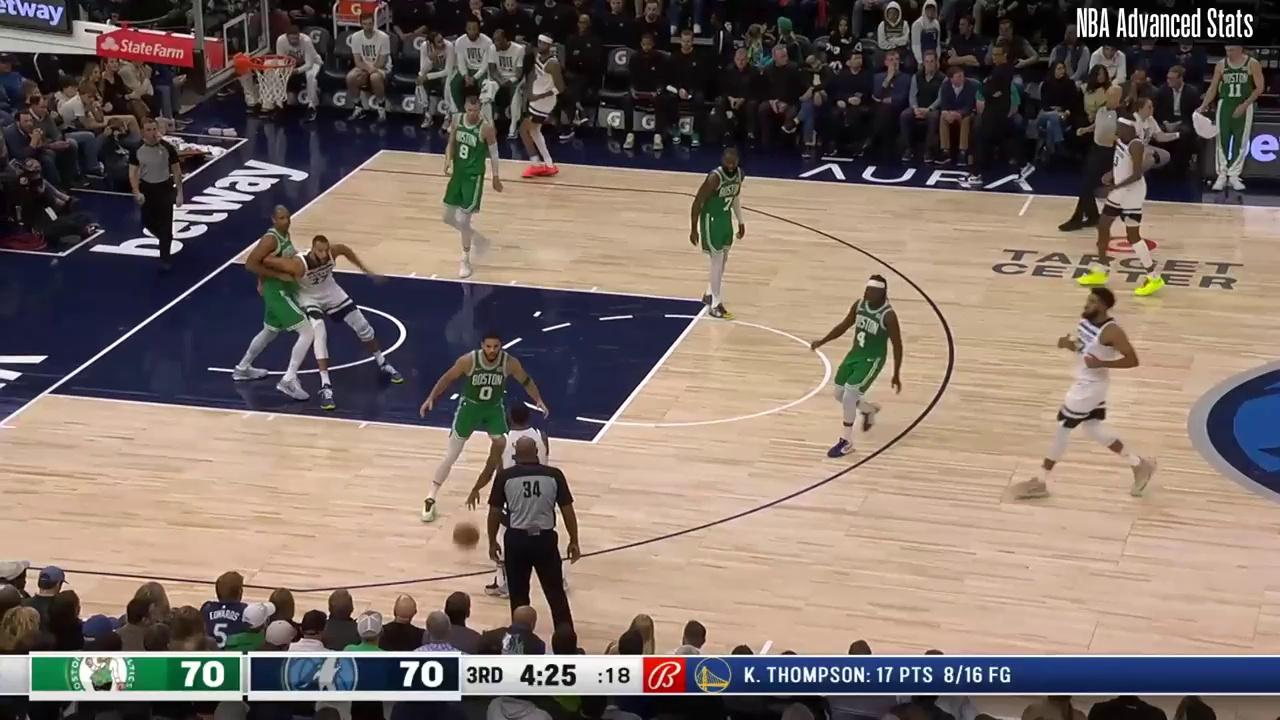3_dx: (353, 164, 364, 173)
b_dx: (378, 147, 386, 155)
free_asx: (587, 436, 601, 448)
free_bdx: (224, 256, 238, 268)
free_bsx: (38, 388, 53, 400)
mid_dx: (1015, 211, 1026, 221)
mid_sx: (764, 634, 777, 647)
referee: (483, 439, 587, 652), (1060, 83, 1123, 237), (129, 117, 188, 268)
team: (419, 330, 548, 521), (230, 200, 317, 400), (812, 276, 903, 461), (436, 92, 506, 281), (687, 146, 749, 321)
team1: (1020, 286, 1161, 506), (454, 402, 571, 599), (271, 237, 404, 410), (1084, 117, 1164, 296), (514, 30, 566, 177)
timer: (511, 659, 583, 692)
